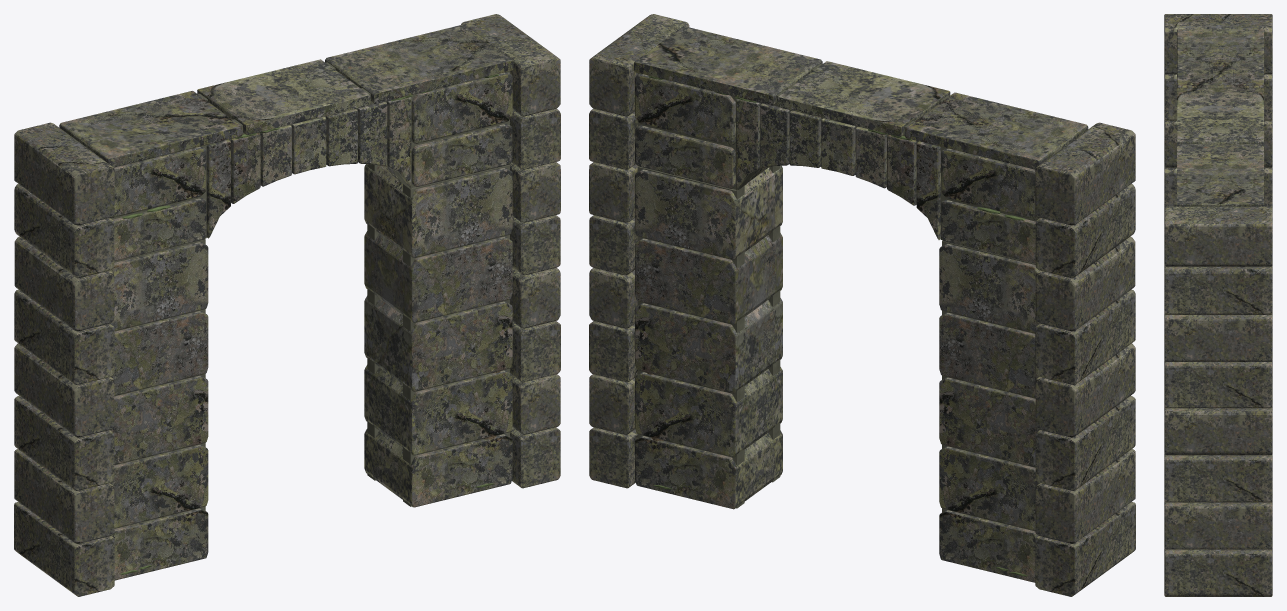
The model's file is v4_passage_arch.glb.
3 views of the same model, side by side, from view 1: azimuth 30°, elevation 25°; view 2: azimuth 150°, elevation 25°; view 3: azimuth 270°, elevation 25° (orthographic). The views are drawn at different scales.
Parts seen in each view (by area): view 1: sacred_weathered_stone_surface, sacred_earth_mortar_surface; view 2: sacred_weathered_stone_surface, sacred_earth_mortar_surface; view 3: sacred_weathered_stone_surface.
Part boxes in pixels (x1,y1,x2,y2): sacred_weathered_stone_surface: [14, 14, 560, 596]; sacred_earth_mortar_surface: [111, 62, 509, 528]; sacred_weathered_stone_surface: [589, 14, 1135, 596]; sacred_earth_mortar_surface: [637, 64, 1036, 531]; sacred_weathered_stone_surface: [1164, 14, 1272, 596].
Size of the model in its own units: 4.8 by 4 by 1.04.
Materials: 4 (4 with a texture image).
